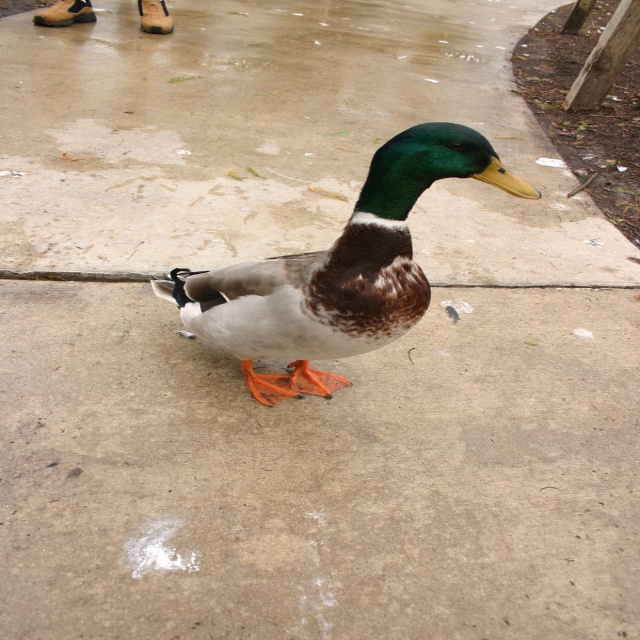Duck: (148, 120, 543, 404)
